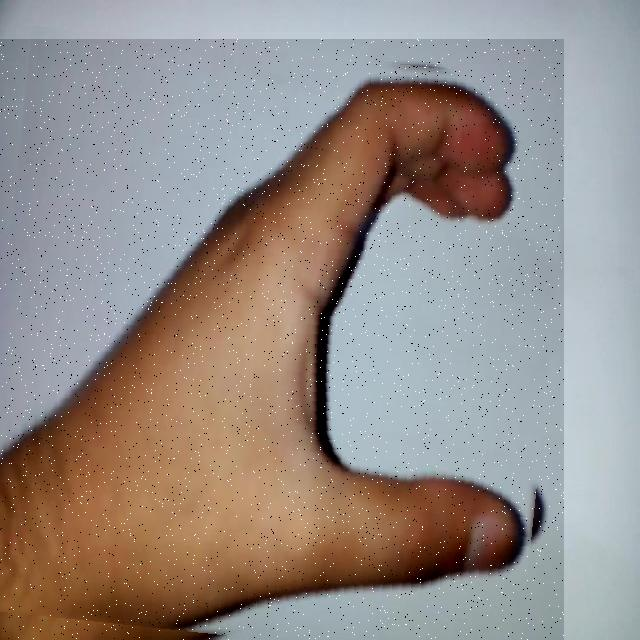C: (0, 39, 564, 640)
